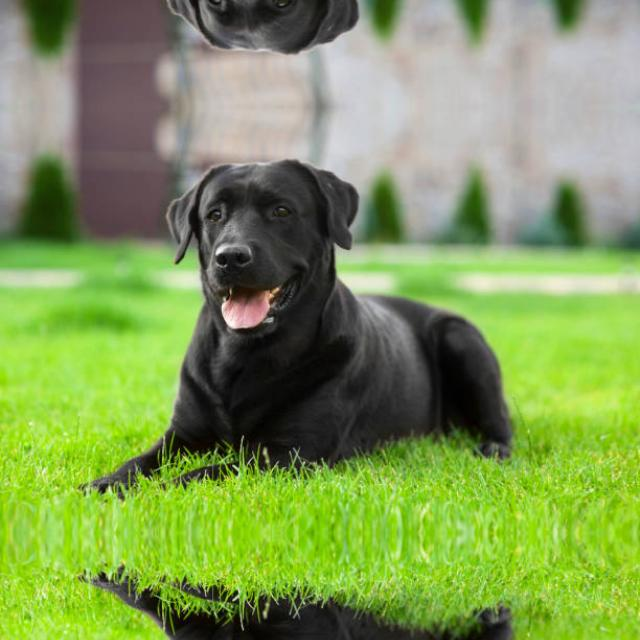dog: (147, 143, 541, 467), (147, 0, 541, 69), (147, 598, 541, 640)
